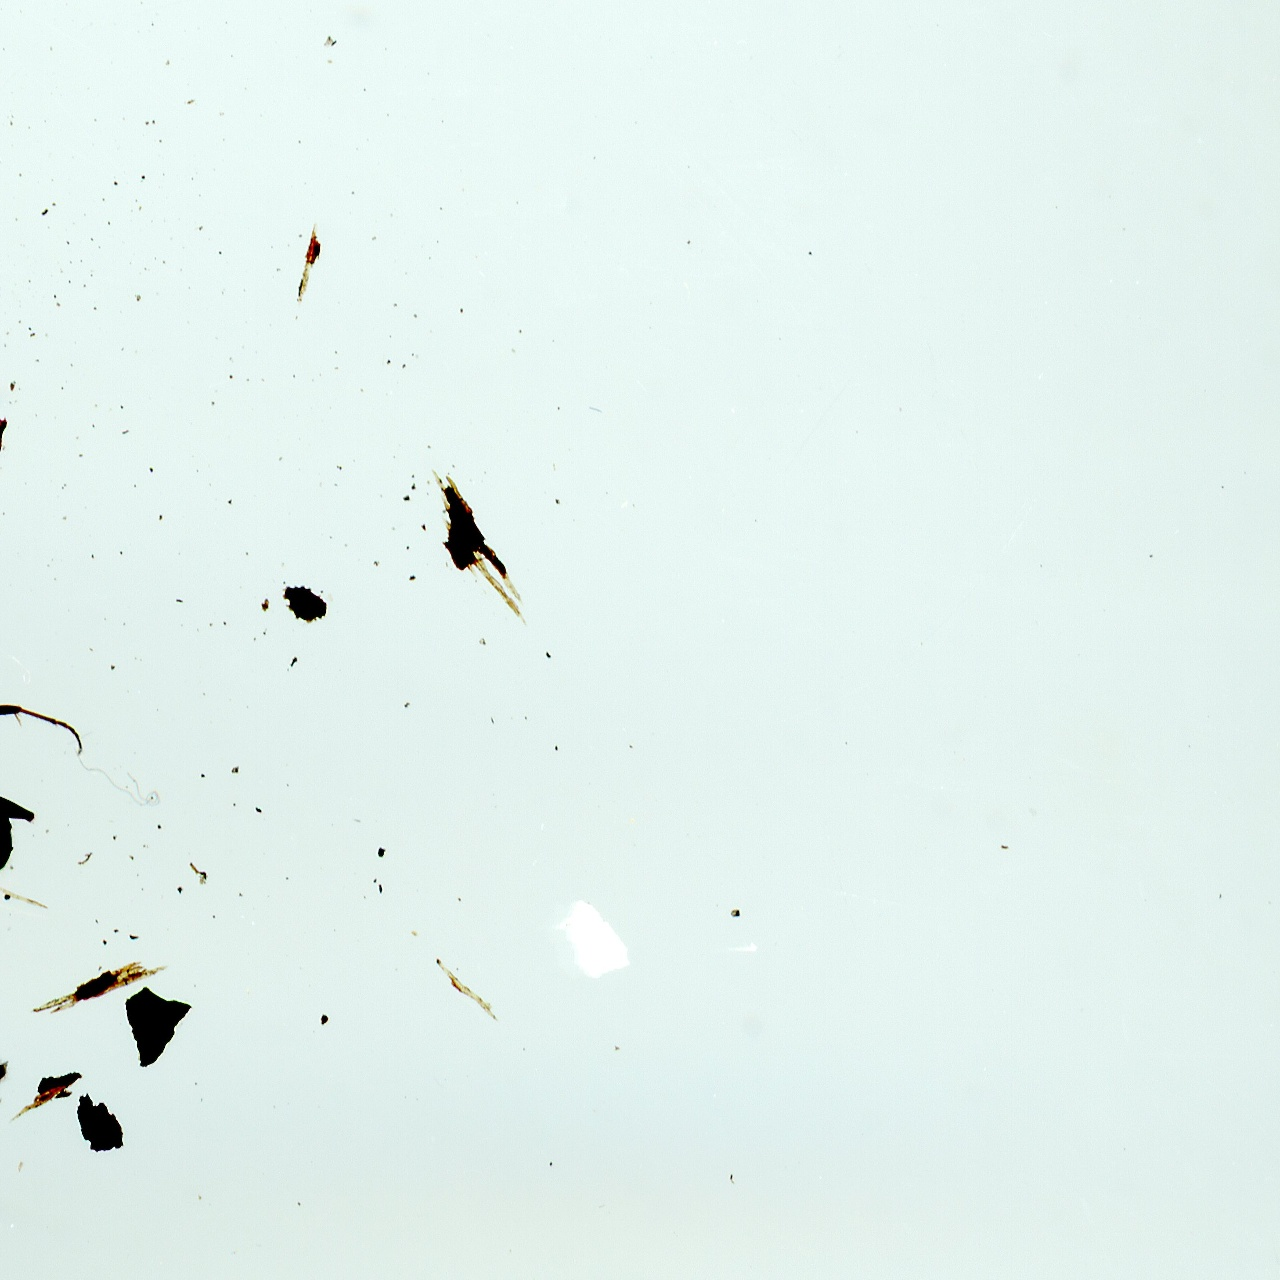arthropod: (0, 518, 91, 918), (0, 1041, 26, 1148)
